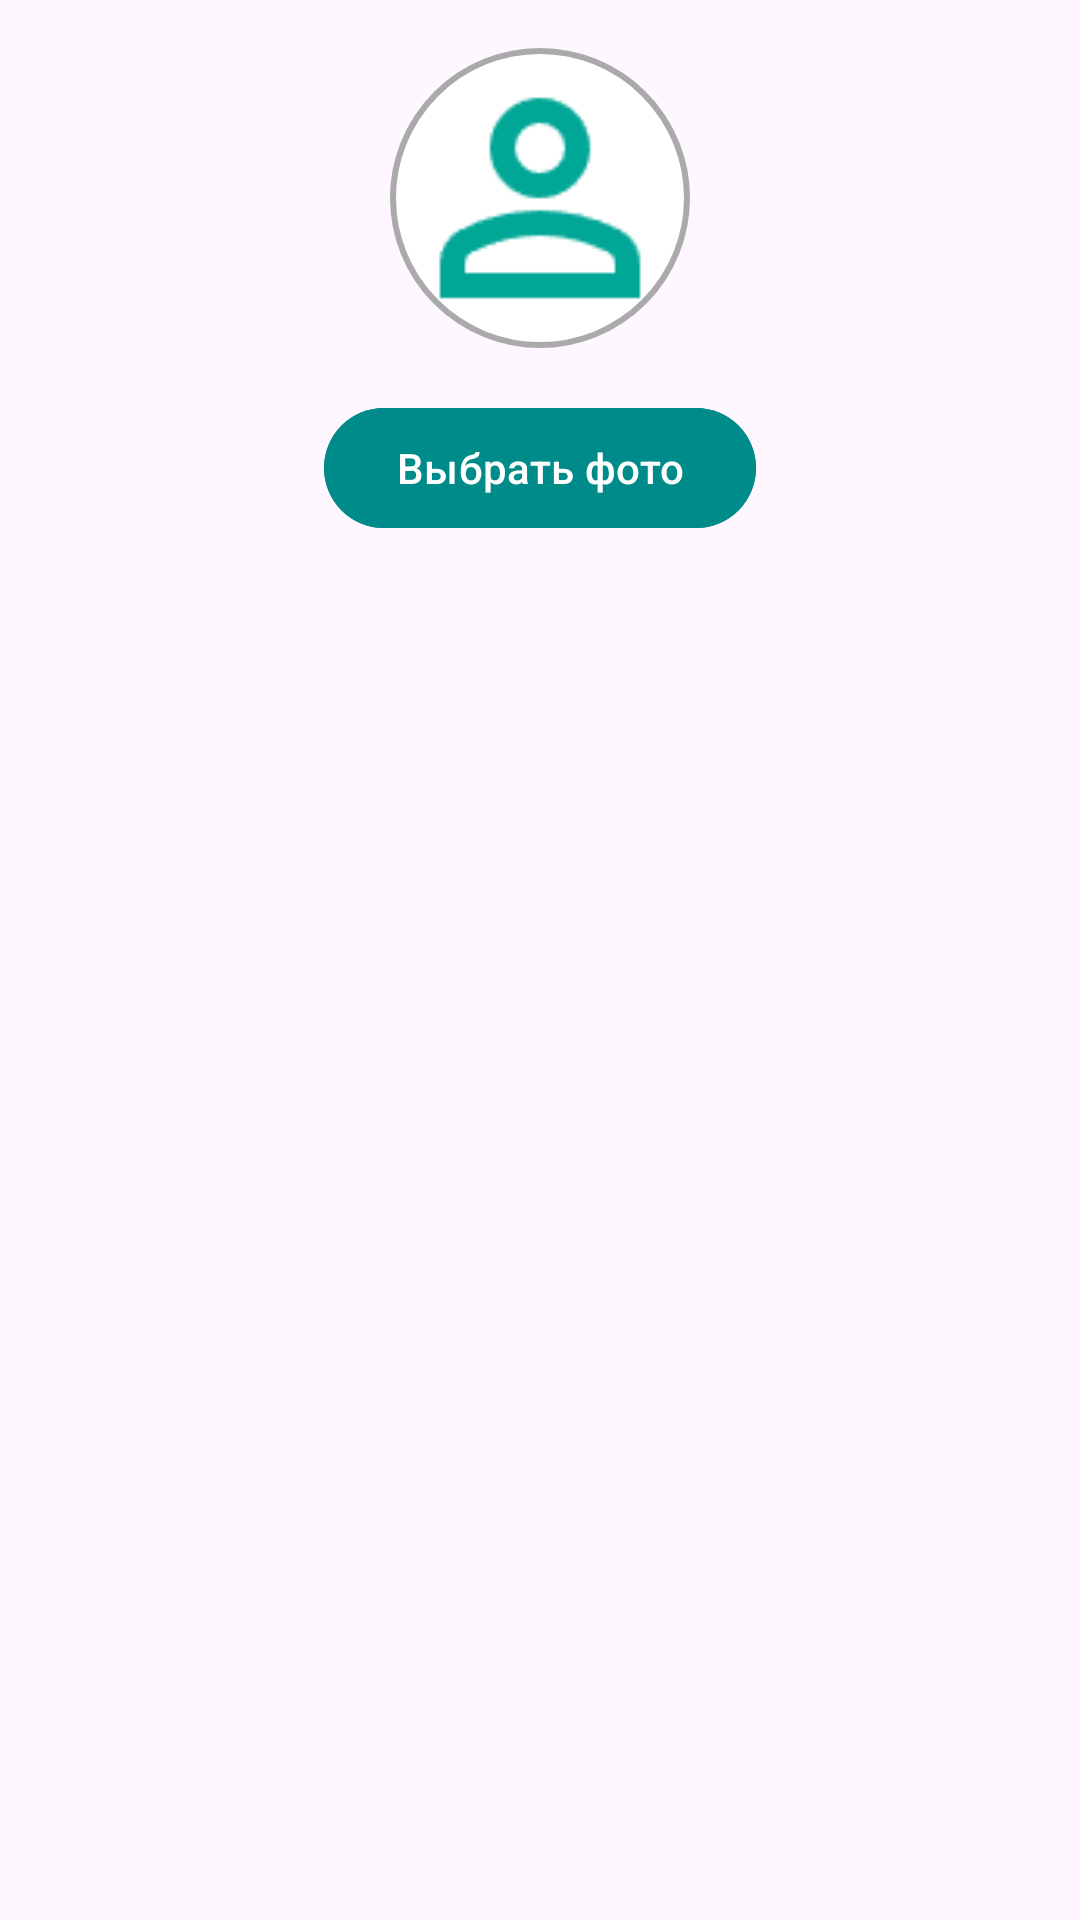

Icons on this 1080 × 1920 Android screen, each with its box as (x1, y1, x2, y2):
person: (390, 48, 690, 348)
